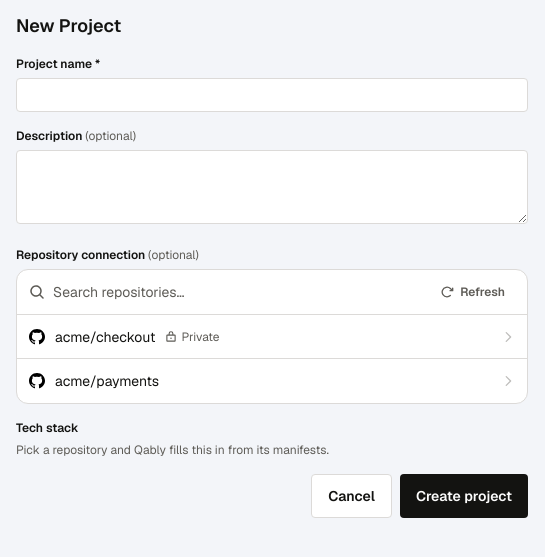
Test: NewProjectForm against the api › blocks the request when the name is empty
What coordinates should you click on to do the following:
click the button "Create project"
I would click on:
 (464, 496)
Its box is 400,474 -> 528,518.
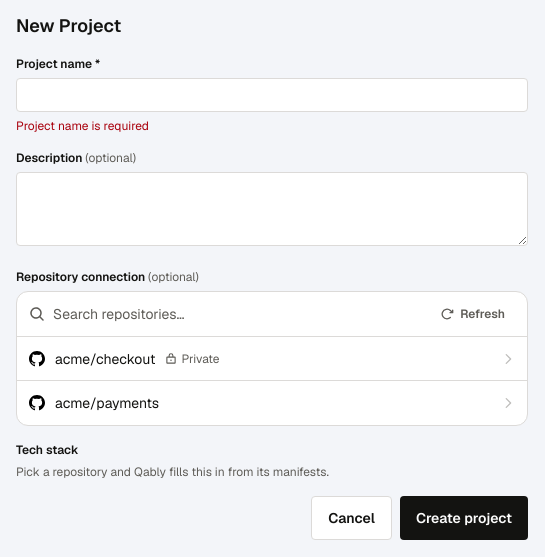
Expected: the text "Project name is required" is shown, 16,118 -> 149,134
